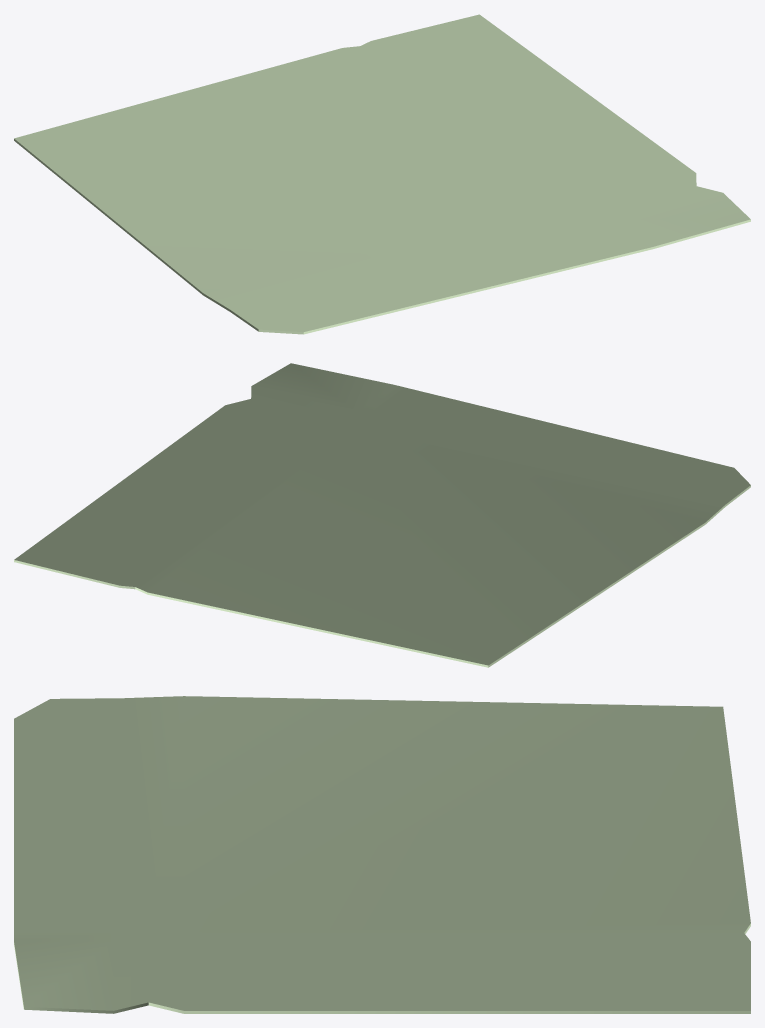
File: SM_Blueprints_2_1.fbx
3 renders of one model, top to bottom at view 1: azimuth 30°, elevation 25°; view 2: azimuth 150°, elevation 25°; view 3: azimuth 270°, elevation 25°, orthographic. The views are drawn at different scales.
Visible parts, largest first — view 1: drawing_030; view 2: drawing_030; view 3: drawing_030.
Part boxes in pixels (x1,y1,x2,y2): drawing_030: (14,14,750,334); drawing_030: (14,363,750,667); drawing_030: (14,696,750,1013).
Size of the model in its own units: 65.18 by 0.291 by 64.5.
